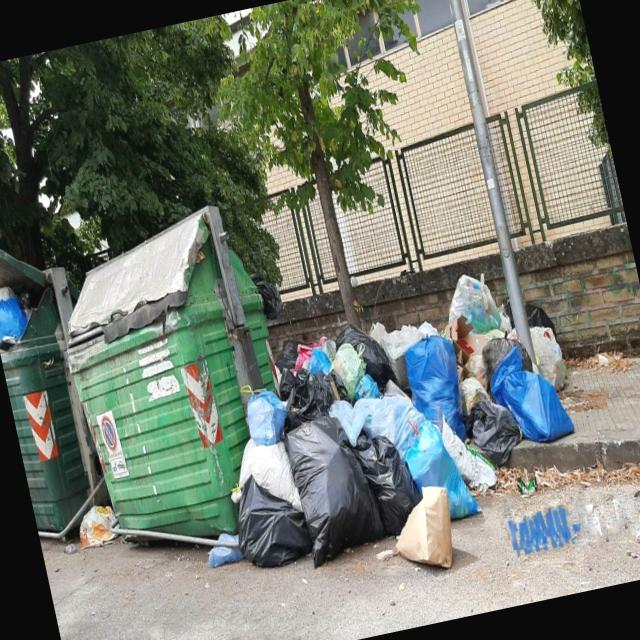garbage: (172, 227, 617, 619)
